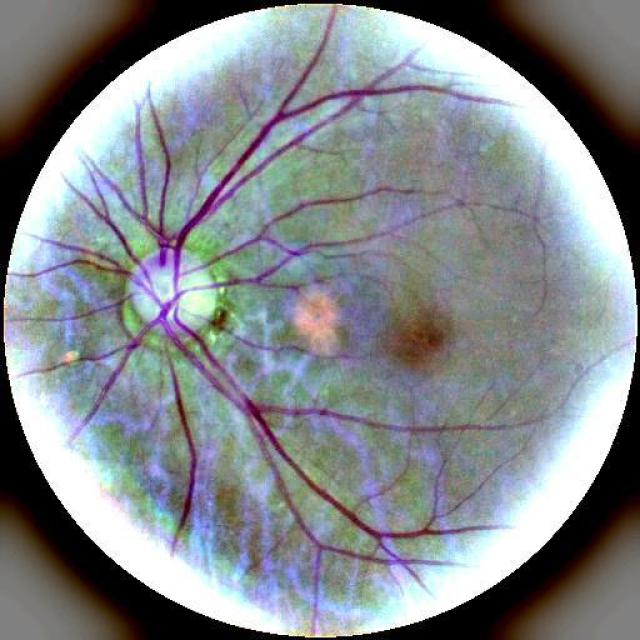Optic Disk: (130, 249, 222, 319)
